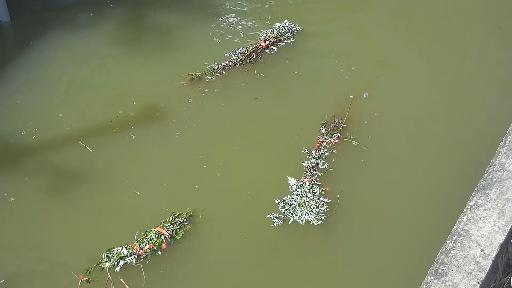twig: (259, 83, 375, 224), (72, 199, 221, 288), (167, 16, 301, 91)
